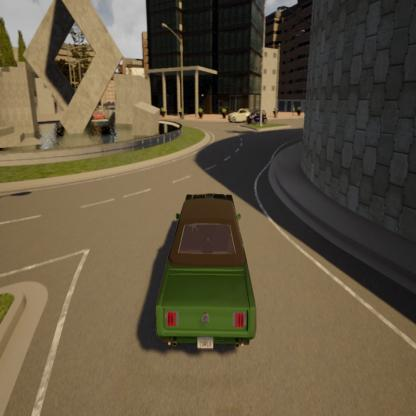Cars: (153, 179, 265, 368), (227, 106, 250, 125), (248, 106, 270, 124)
